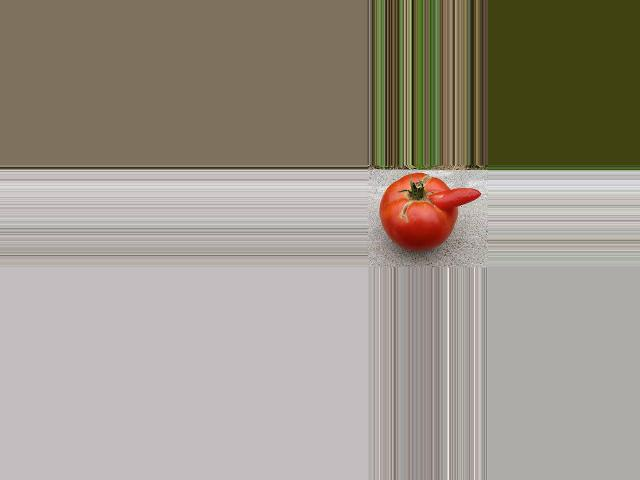tomato: (378, 173, 457, 249)
